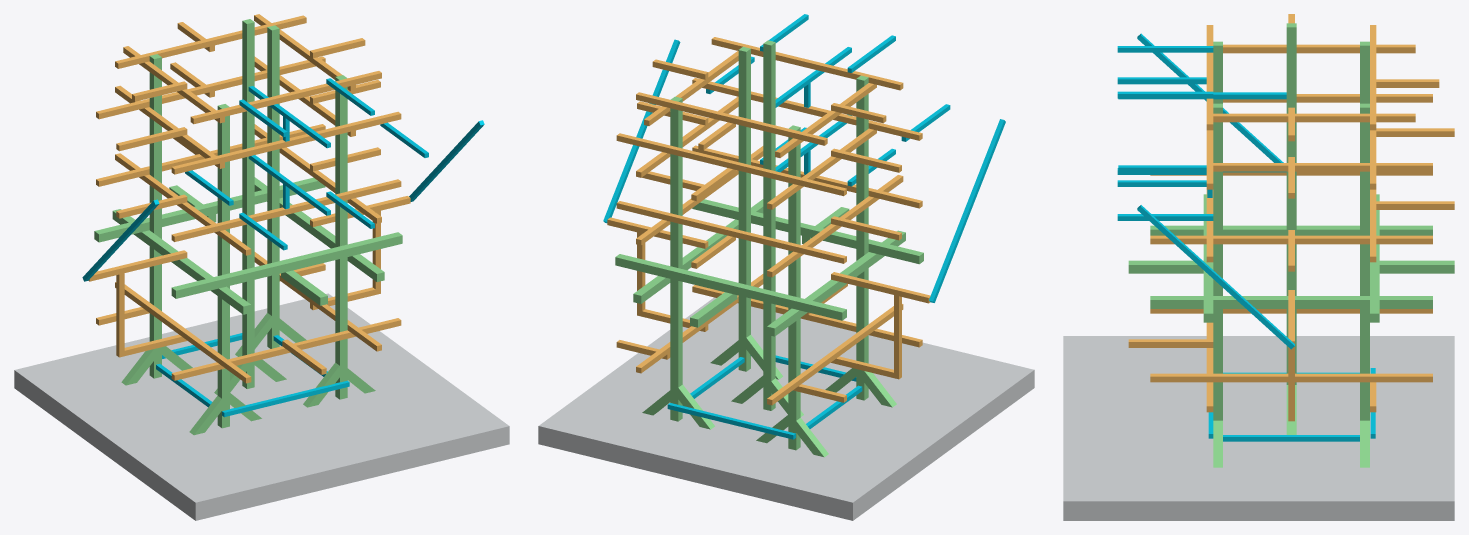
The model's file is ver2.glb.
The picture shows the model from 3 angles, left to right: view 1: azimuth 30°, elevation 25°; view 2: azimuth 150°, elevation 25°; view 3: azimuth 270°, elevation 25°; orthographic projection. The views are drawn at different scales.
Parts seen in each view (by area): view 1: obj_0, obj_1, obj_2, obj_3, obj_67, obj_5, obj_4, obj_24, obj_64, obj_56, obj_27, obj_66 (+24 smaller); view 2: obj_0, obj_1, obj_2, obj_3, obj_64, obj_4, obj_5, obj_67, obj_21, obj_61, obj_45, obj_66 (+24 smaller); view 3: obj_0, obj_68, obj_28, obj_3, obj_2, obj_60, obj_66, obj_1, obj_43, obj_23, obj_47, obj_49 (+31 smaller).
Part boxes in pixels (box(x1,y1,x2,y2)): obj_0: box(14, 293, 509, 520); obj_1: box(242, 19, 254, 388); obj_2: box(335, 75, 347, 399); obj_3: box(267, 25, 279, 348); obj_67: box(171, 232, 402, 298); obj_5: box(217, 104, 229, 428); obj_4: box(149, 54, 161, 378); obj_24: box(171, 111, 401, 174); obj_64: box(94, 177, 325, 242); obj_56: box(171, 179, 401, 241); obj_27: box(171, 318, 401, 380); obj_66: box(112, 209, 251, 314); obj_0: box(538, 297, 1034, 520); obj_1: box(763, 40, 775, 410); obj_2: box(738, 46, 750, 371); obj_3: box(670, 96, 682, 421); obj_64: box(615, 254, 846, 320); obj_4: box(788, 125, 800, 450); obj_5: box(856, 75, 868, 400); obj_67: box(692, 199, 923, 264); obj_21: box(616, 133, 846, 196); obj_61: box(616, 201, 846, 263); obj_45: box(636, 92, 827, 145); obj_66: box(767, 230, 905, 336); obj_0: box(1063, 336, 1454, 520); obj_68: box(1150, 296, 1432, 308); obj_28: box(1150, 373, 1432, 382); obj_3: box(1360, 103, 1369, 420); obj_2: box(1213, 103, 1222, 420); obj_60: box(1150, 235, 1432, 244); obj_66: box(1150, 225, 1432, 235); obj_1: box(1286, 23, 1296, 384); obj_43: box(1213, 113, 1415, 122); obj_23: box(1213, 163, 1432, 171); obj_47: box(1223, 44, 1415, 53); obj_49: box(1137, 205, 1294, 349).
Size of the model in its own units: 189 by 210 by 180.
